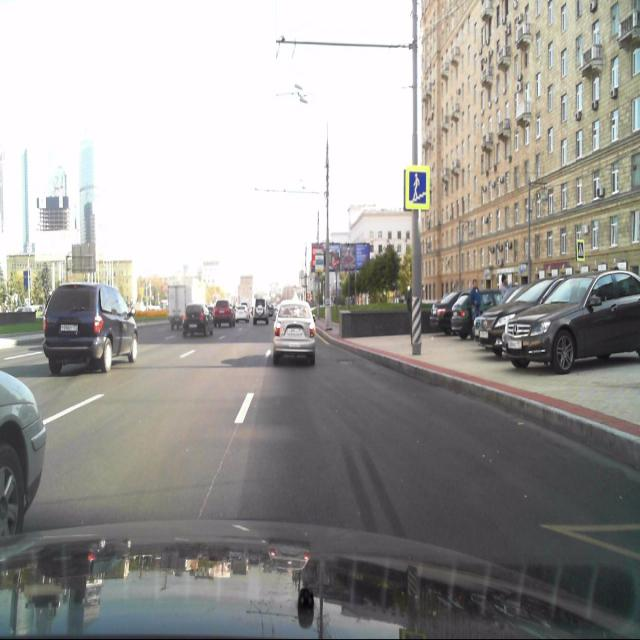road sign: (405, 166, 430, 211), (576, 236, 586, 260)
